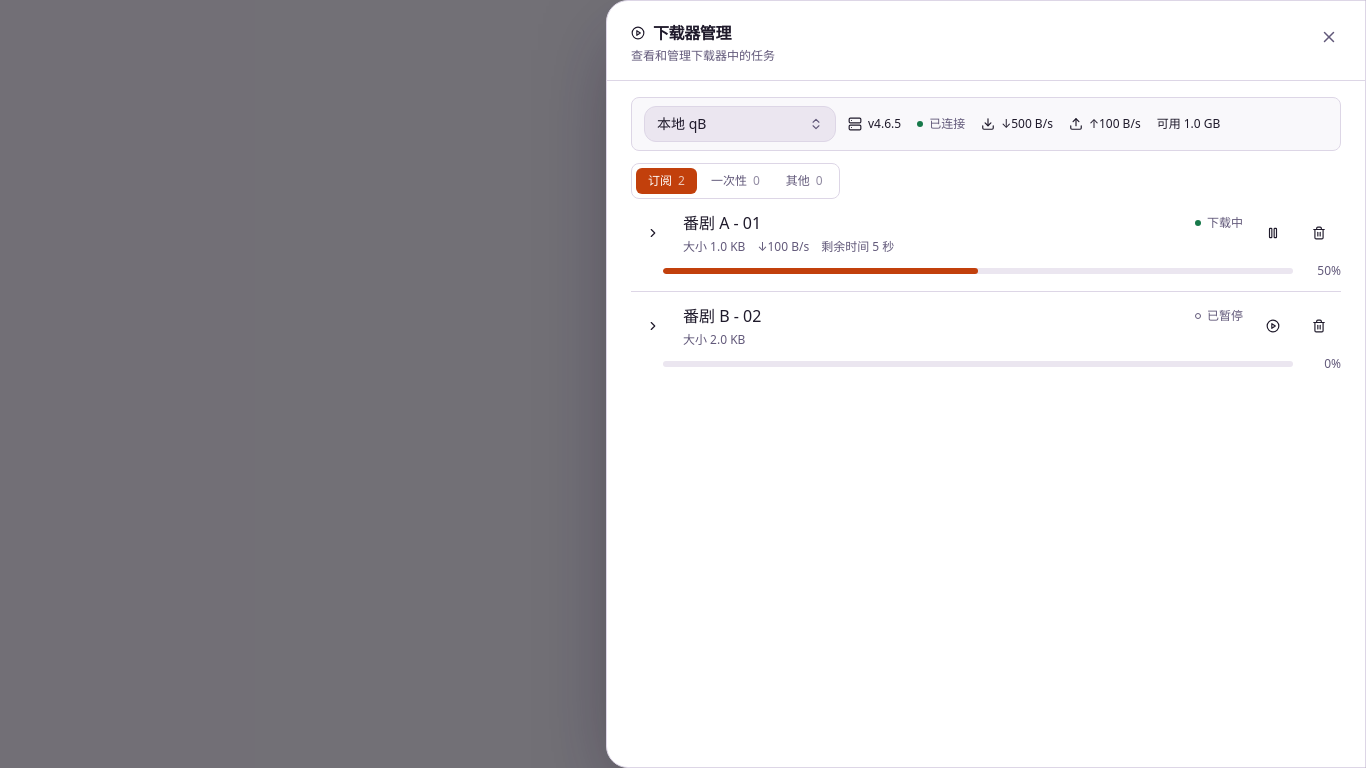
Test: QBManagerDialog › 切换多连接时请求新连接并清除展开内容
The image size is (1366, 768).
expect the text "番剧 A - 01" is shown: met, box [683,212,761,234]
Click the button named "展开文件列表" next to "番剧 A - 01" at {"x": 653, "y": 233}, box [631,211,675,255]
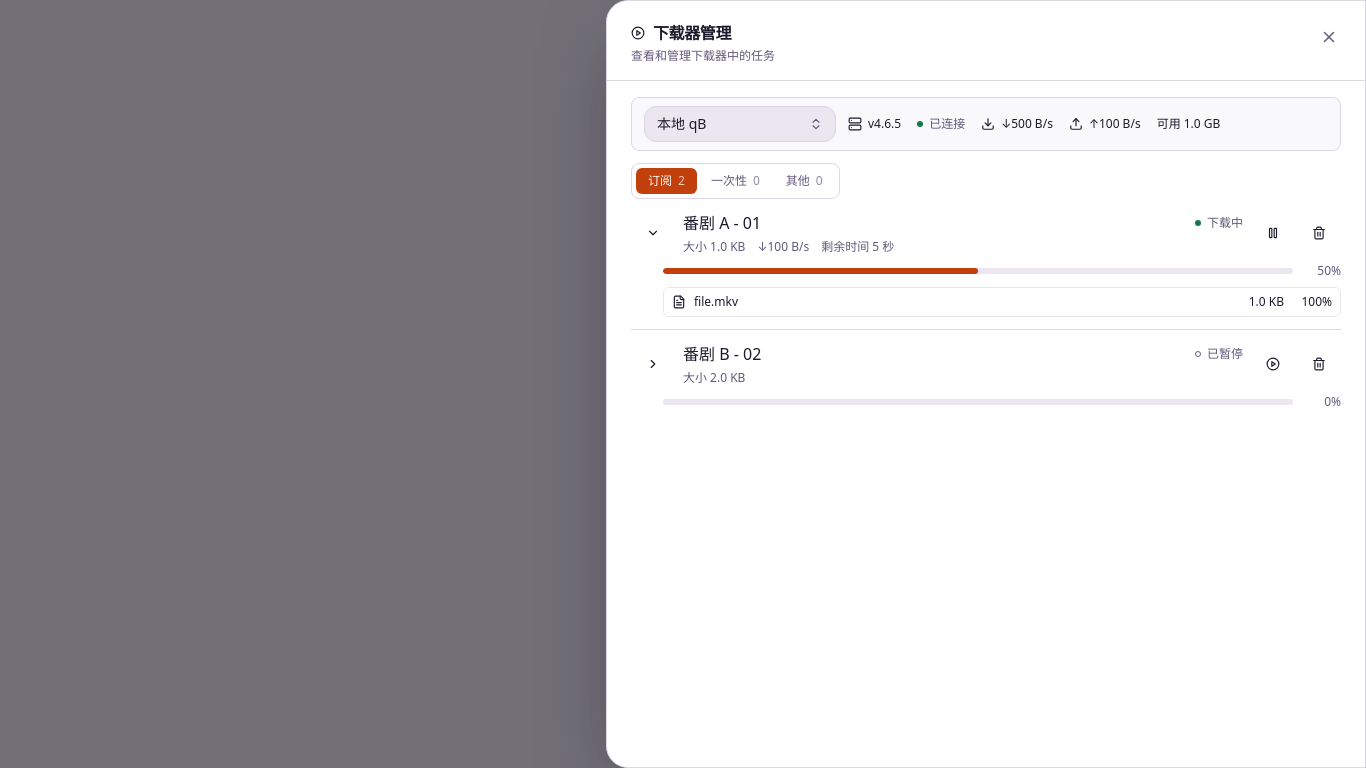
expect the text "file.mkv" is shown: met, box [694,293,738,310]
Click the dropdown named "下载器" at {"x": 740, "y": 124}, box [644,106,836,142]
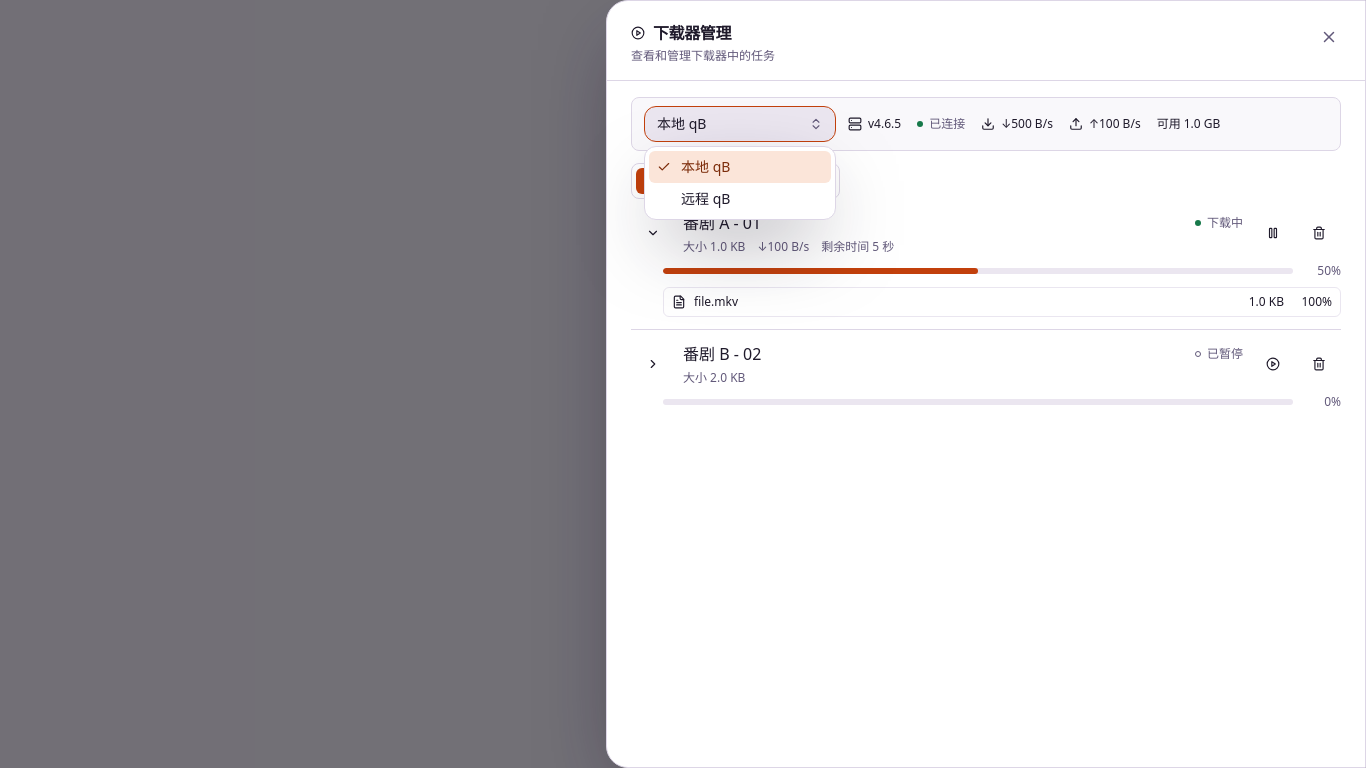
# The option shows the downloader's name, not its address.
Click the option "远程 qB" at {"x": 706, "y": 198}, box [681,189,730,208]
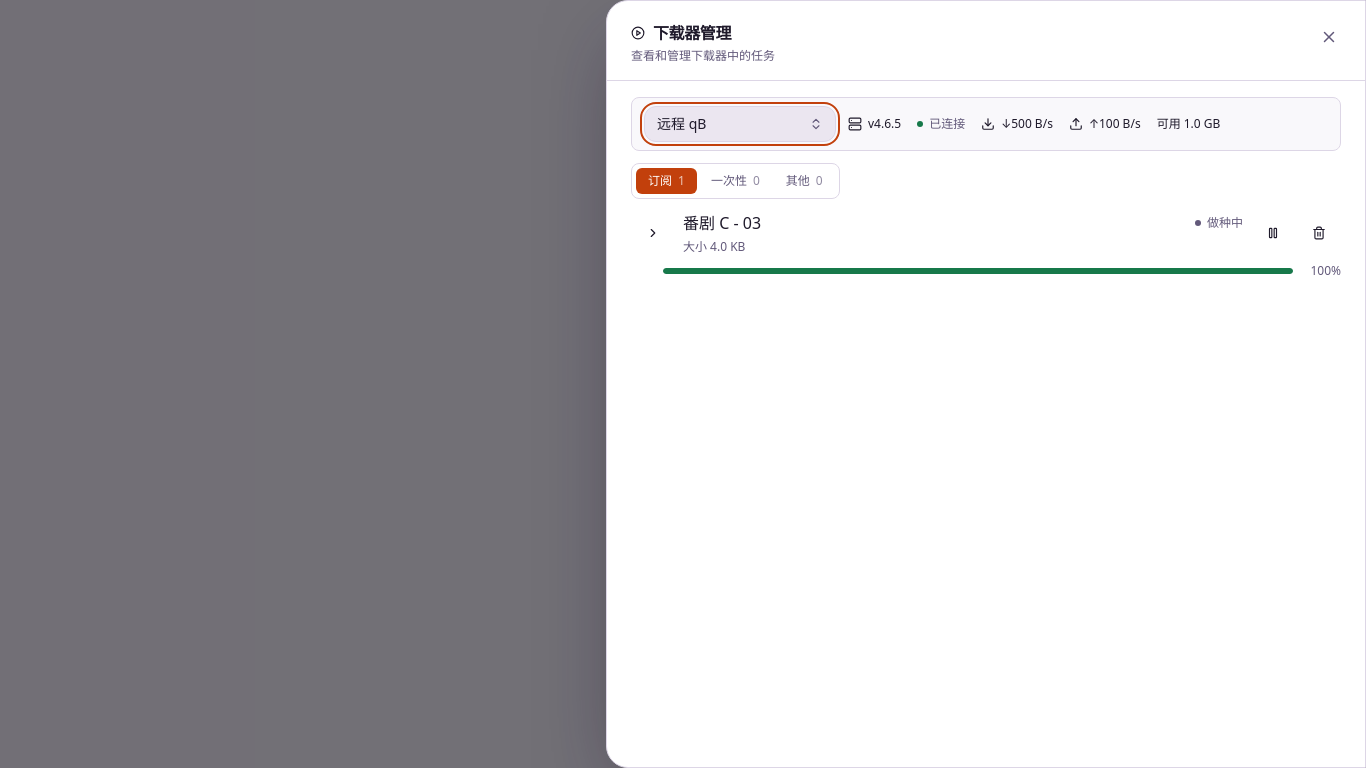
expect the text "番剧 C - 03" is shown: met, box [683,212,761,234]
expect the text "file.mkv" is gone: met
expect the text "番剧 A - 01" is gone: met
